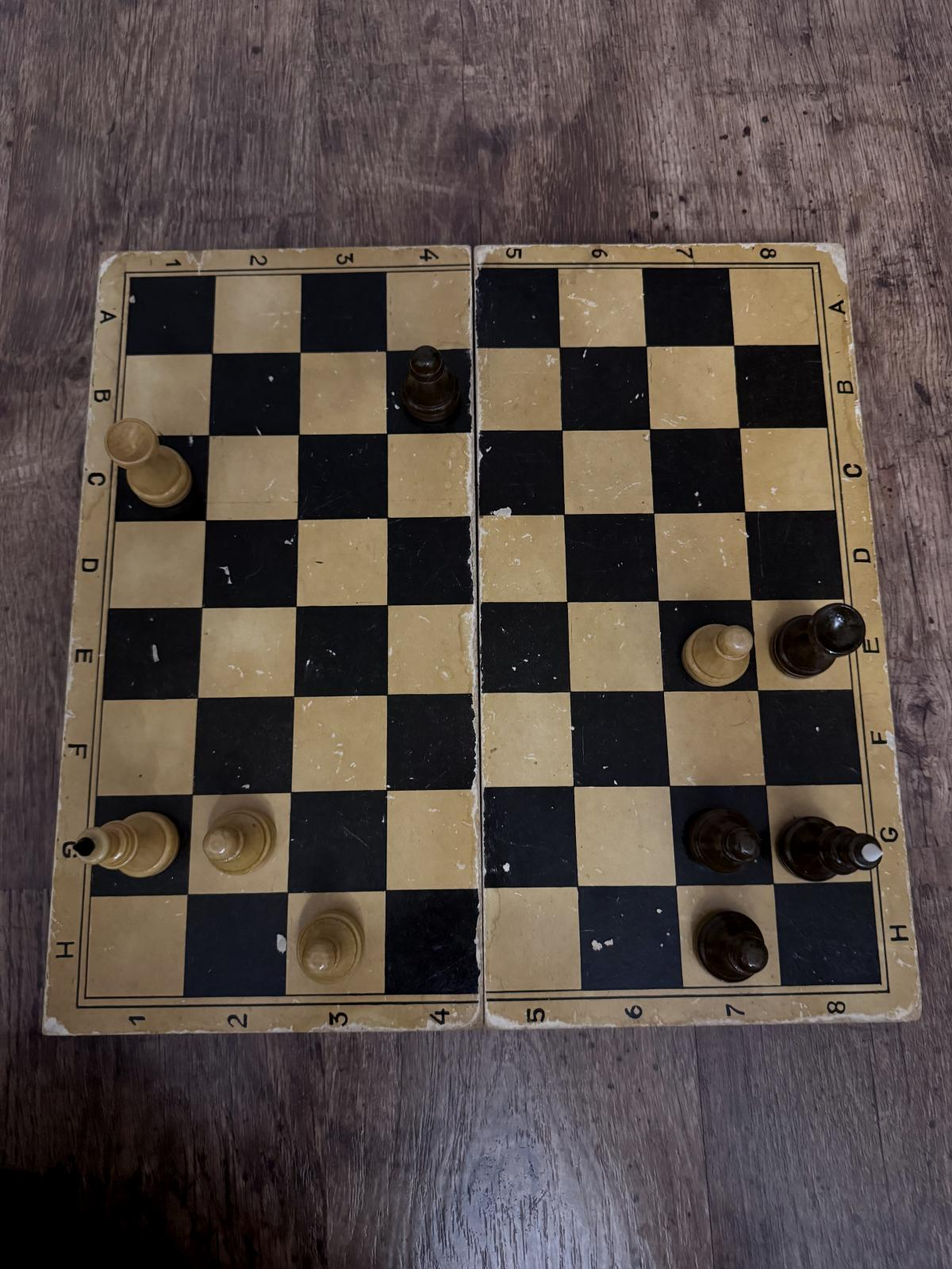Chess-Board: (85, 268, 881, 998)
